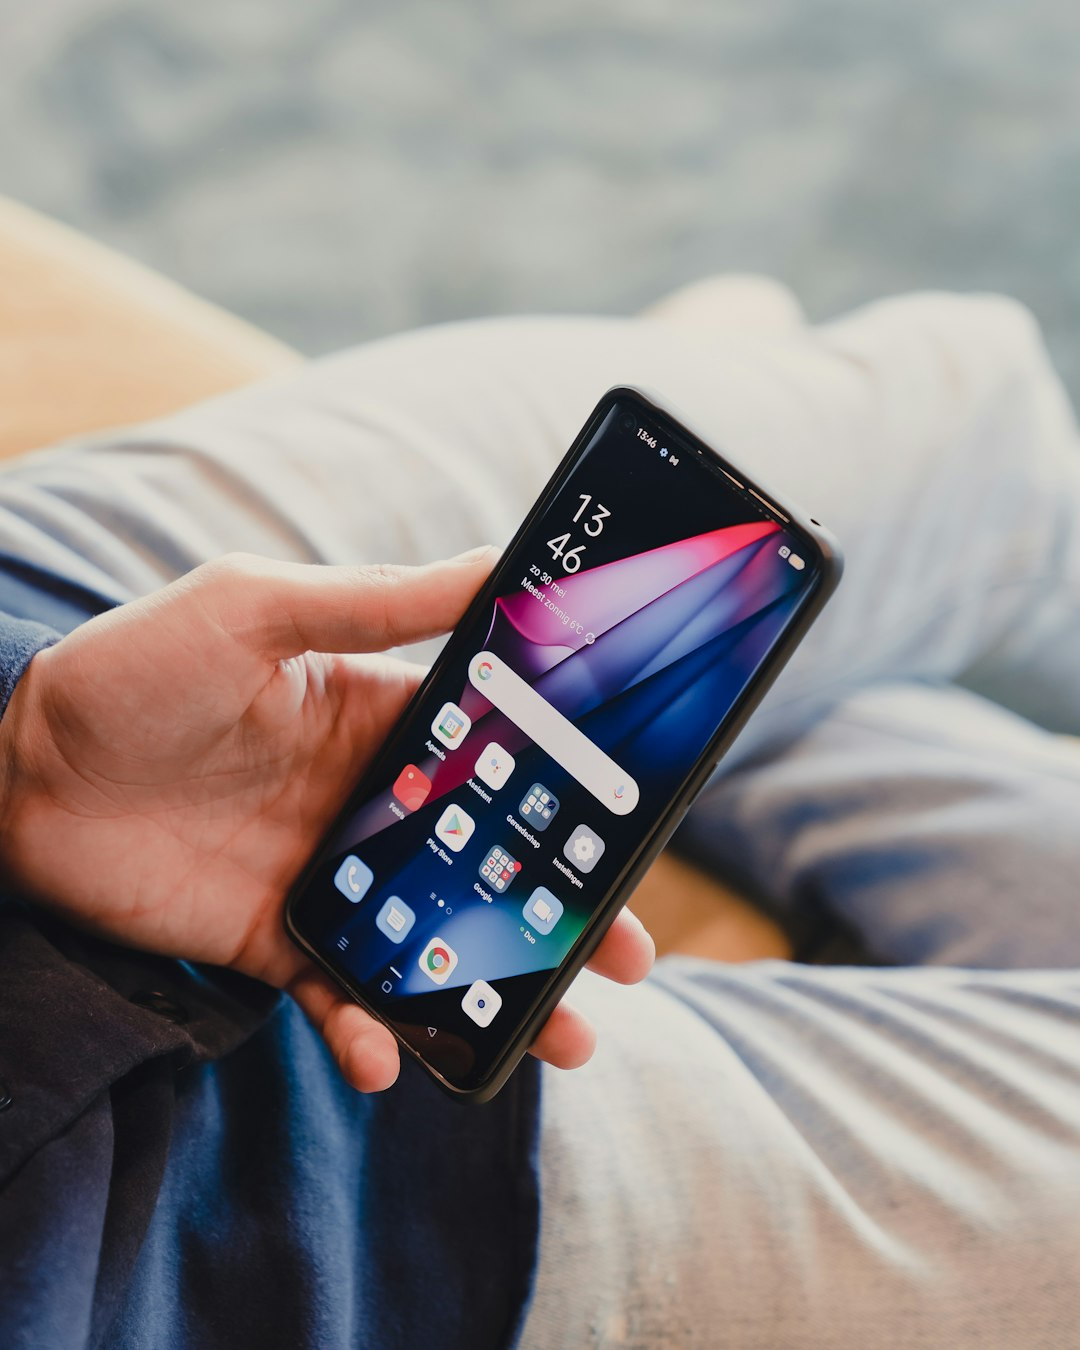phone: (276, 385, 847, 1109)
